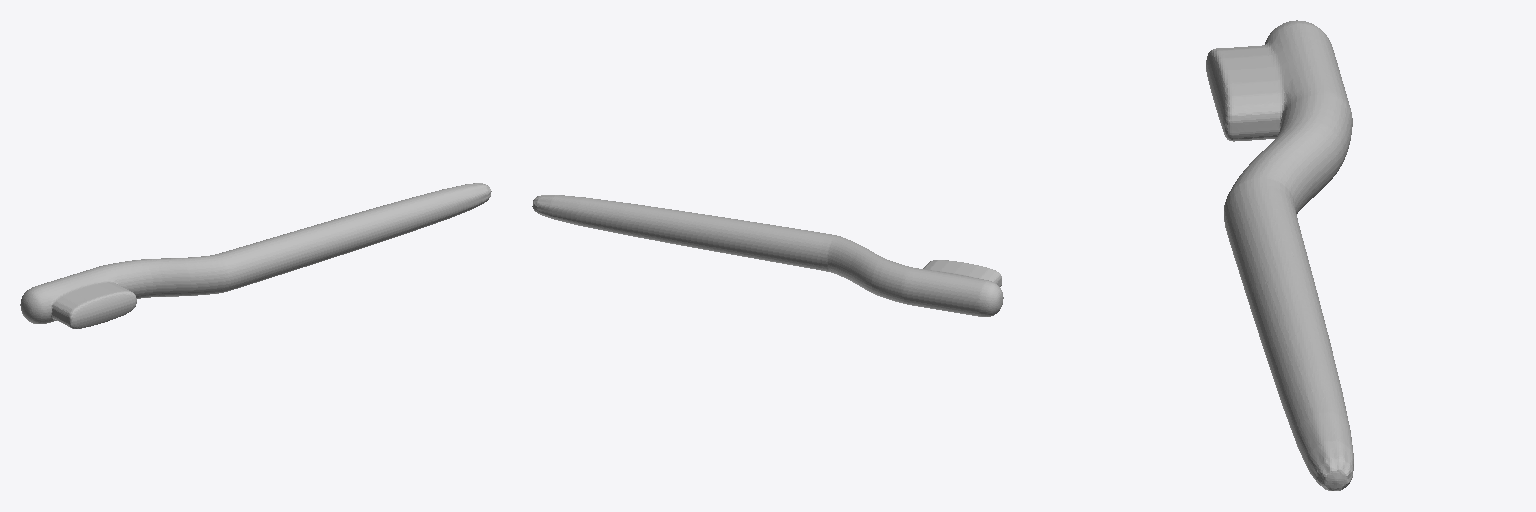
The robot description file, URDF, robot "root":
<robot name="root">
  <link name="link_001">
    <visual>
      <origin xyz="0 0 0" rpy="0 0 0"/>
      <geometry>
        <mesh filename="toothbrush.obj" scale="1.0000E+00 1.0000E+00 1.0000E+00"/>
      </geometry>
      <material name="">
        <color rgba="7.50E-01 7.50E-01 7.50E-01 1"/>
      </material>
    </visual>
    <collision>
      <origin xyz="0 0 0" rpy="0 0 0"/>
      <geometry>
        <mesh filename="toothbrush.obj" scale="1.0000E+00 1.0000E+00 1.0000E+00"/>
      </geometry>
    </collision>
    <inertial>
      <mass value="0.16"/> <!-- 质量：0.1kg -->
    </inertial>
  </link>
</robot>

--- What the picture shows (computed from the rendered views, not written in the file) ---
3 views of the same robot in one strip: view 1: azimuth 30°, elevation 25°; view 2: azimuth 150°, elevation 25°; view 3: azimuth 270°, elevation 25° (orthographic).
Model root with 1 links and 0 joints (none), rooted at link_001, posed every joint at zero.
Links seen in each view (by area): view 1: link_001; view 2: link_001; view 3: link_001.
Boxes of the visible links, x1=… form: link_001: x1=20, y1=183, x2=491, y2=328; link_001: x1=532, y1=195, x2=1003, y2=316; link_001: x1=1206, y1=20, x2=1353, y2=490.
Bounding box of the posed robot: 0.1649 × 0.0241 × 0.0124 m (x, y, z).
1 mesh visuals loaded from 1 distinct referenced files (1 OBJ).
